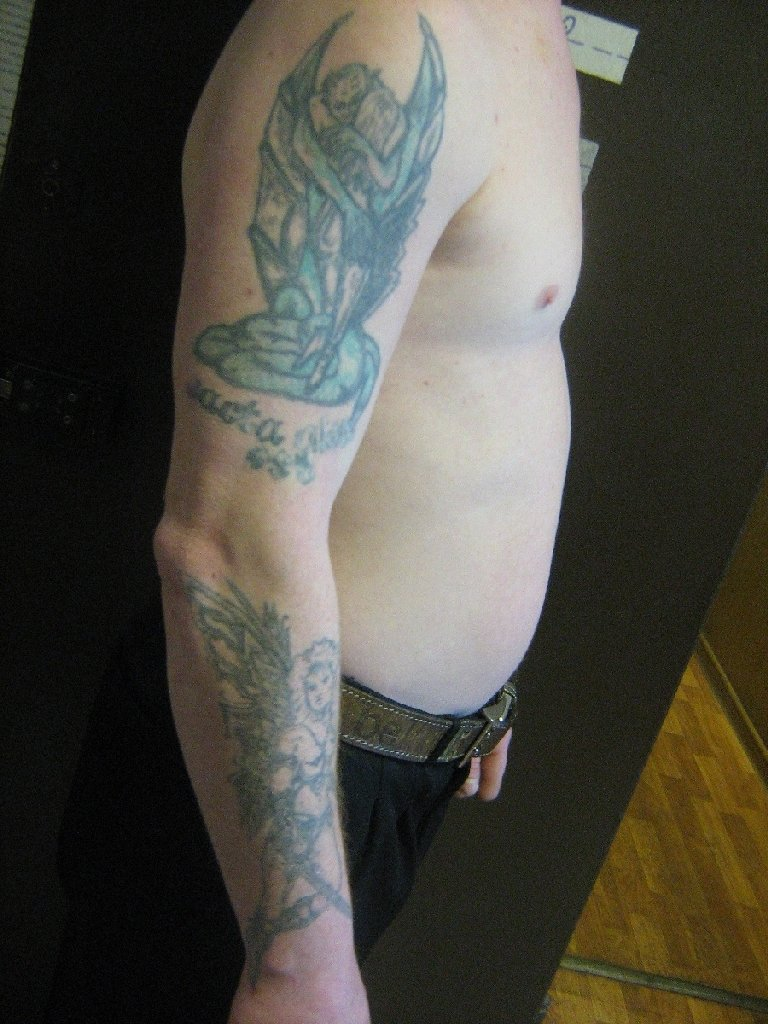tatu1_angel: (228, 12, 436, 396), (179, 564, 369, 951)
tatu3_bukva: (184, 374, 383, 494)
